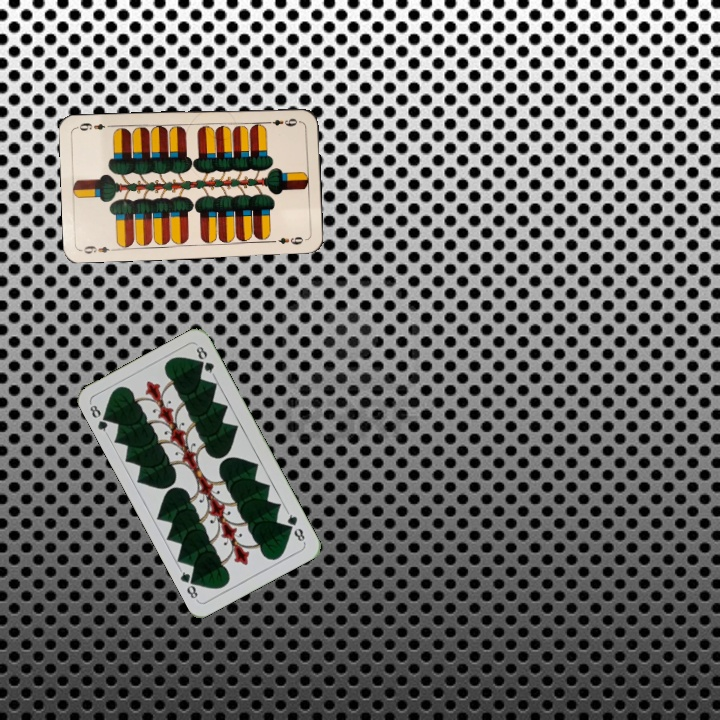E9: (78, 242, 118, 257), (262, 115, 302, 129)
G8: (86, 399, 113, 438), (283, 508, 307, 546)
